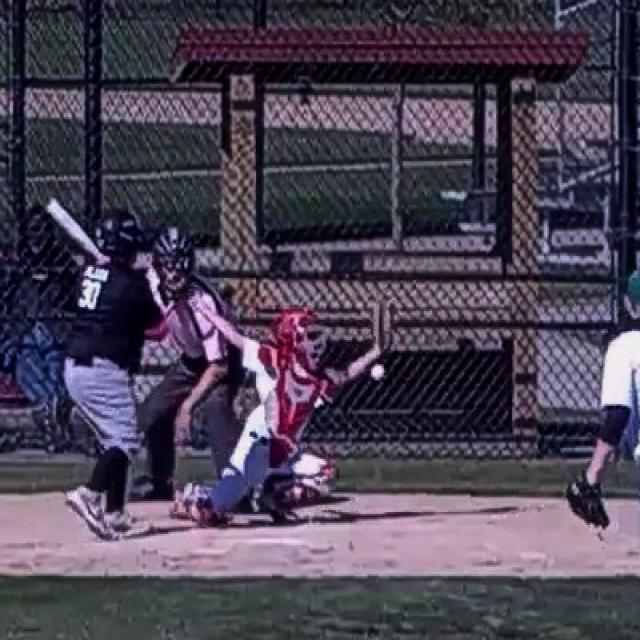baseball: (371, 366, 385, 380)
